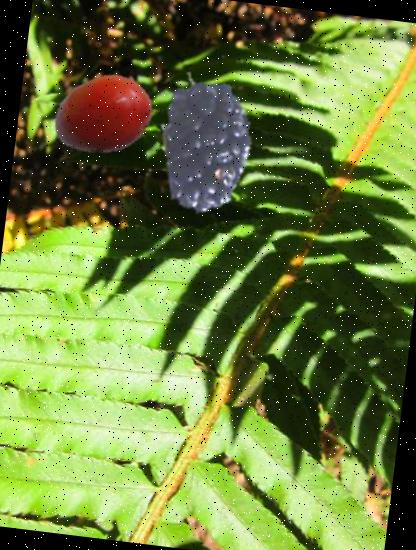Mulberry: (138, 60, 298, 220)
Potato: (48, 58, 158, 170)
